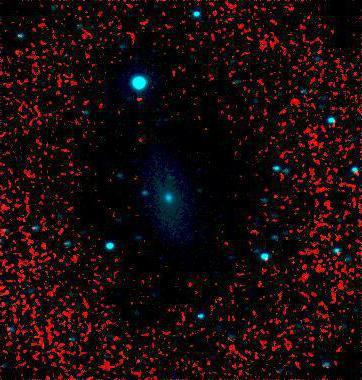star: (126, 84, 156, 114)
